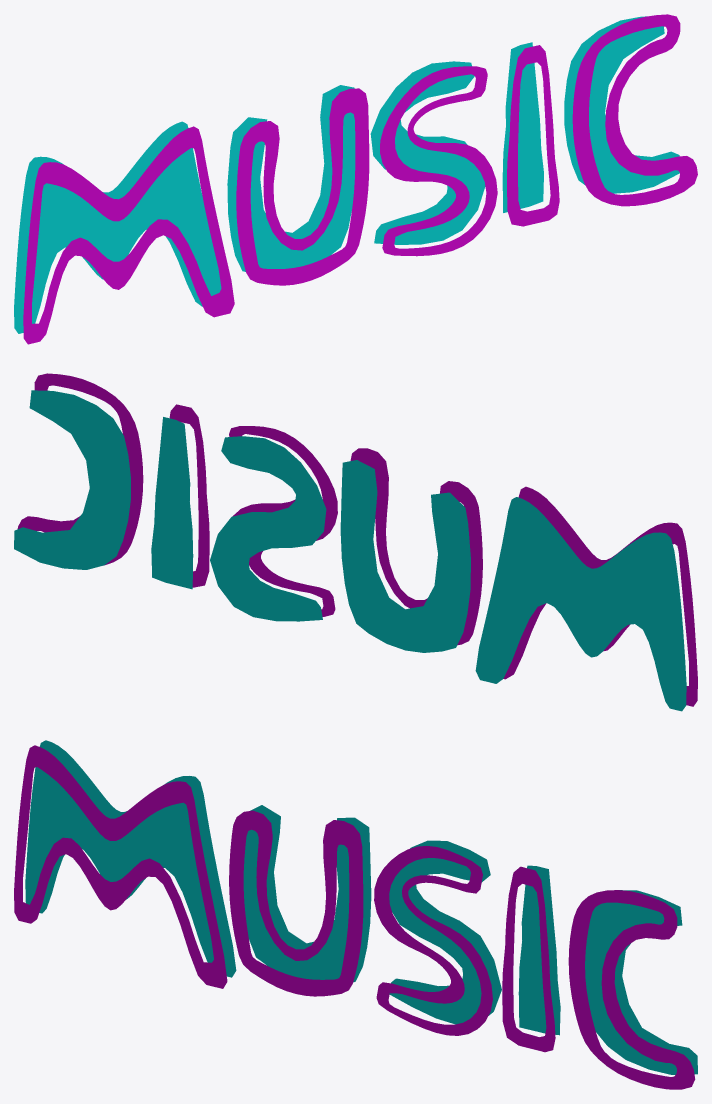
File: mesh_text_music.fbx
3 renders of one model, top to bottom at view 1: azimuth 30°, elevation 25°; view 2: azimuth 150°, elevation 25°; view 3: azimuth 330°, elevation 25°, orthographic.
Parts seen in each view (by area): view 1: mesh_text_music1, mesh_text_music; view 2: mesh_text_music, mesh_text_music1; view 3: mesh_text_music1, mesh_text_music.
Boxes of the visible parts, x1=… form: mesh_text_music1: x1=23, y1=14, x2=697, y2=344; mesh_text_music: x1=14, y1=16, x2=679, y2=333; mesh_text_music: x1=14, y1=390, x2=686, y2=711; mesh_text_music1: x1=17, y1=373, x2=697, y2=706; mesh_text_music1: x1=14, y1=745, x2=695, y2=1089; mesh_text_music: x1=25, y1=740, x2=697, y2=1074.
Bounding box in the file's own units: 0.0802 × 0.0222 × 0.00212.
